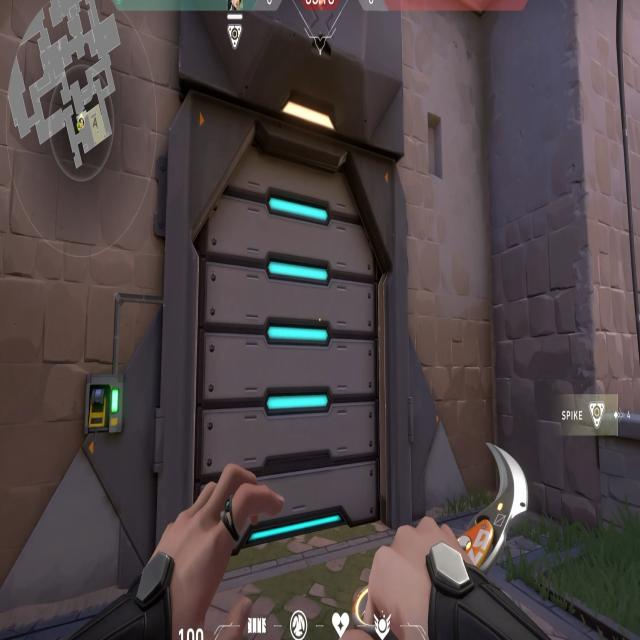A_Door: (177, 45, 420, 576)
